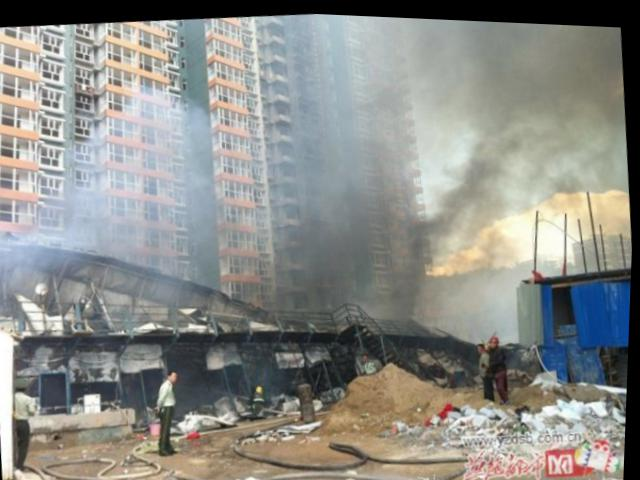fire: (415, 170, 635, 278)
